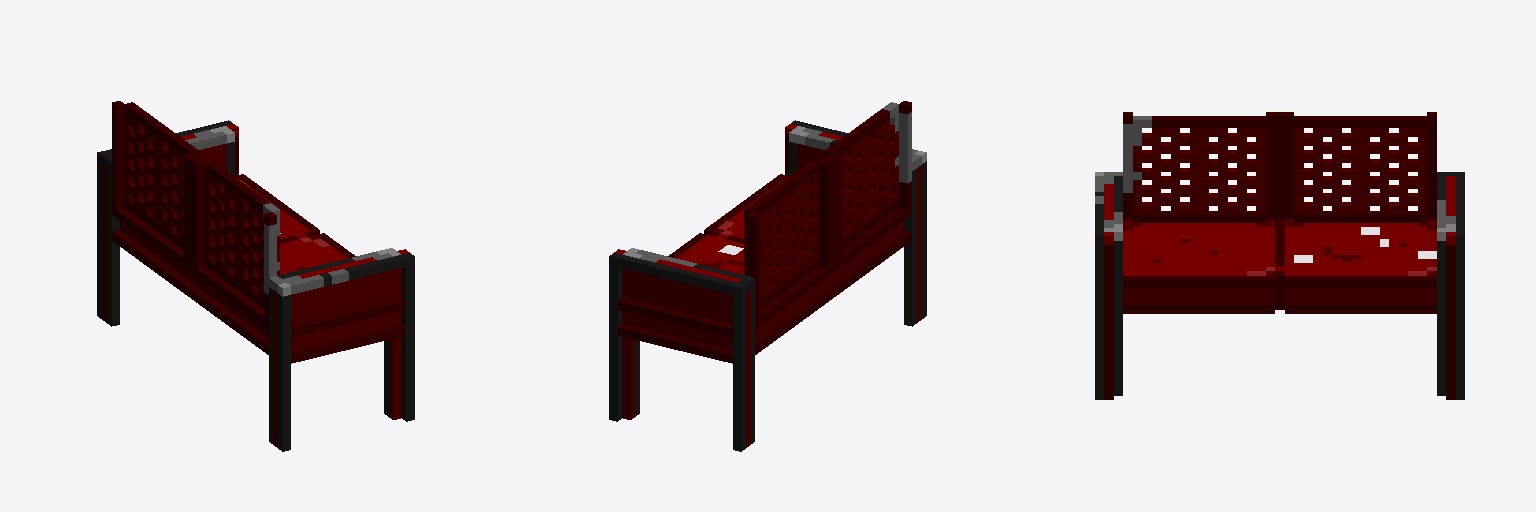
3 views of the same model, side by side, from view 1: azimuth 30°, elevation 25°; view 2: azimuth 150°, elevation 25°; view 3: azimuth 270°, elevation 25° (orthographic).
Visible parts, largest first — view 1: SubwayBench3; view 2: SubwayBench3; view 3: SubwayBench3.
Boxes of the visible parts, <box> form: SubwayBench3: <box>97,101,414,451</box>; SubwayBench3: <box>609,101,926,451</box>; SubwayBench3: <box>1095,112,1464,399</box>.
Size of the model in its own units: 1.6 by 2.6 by 3.9.
Materials: 1 (1 with a texture image).